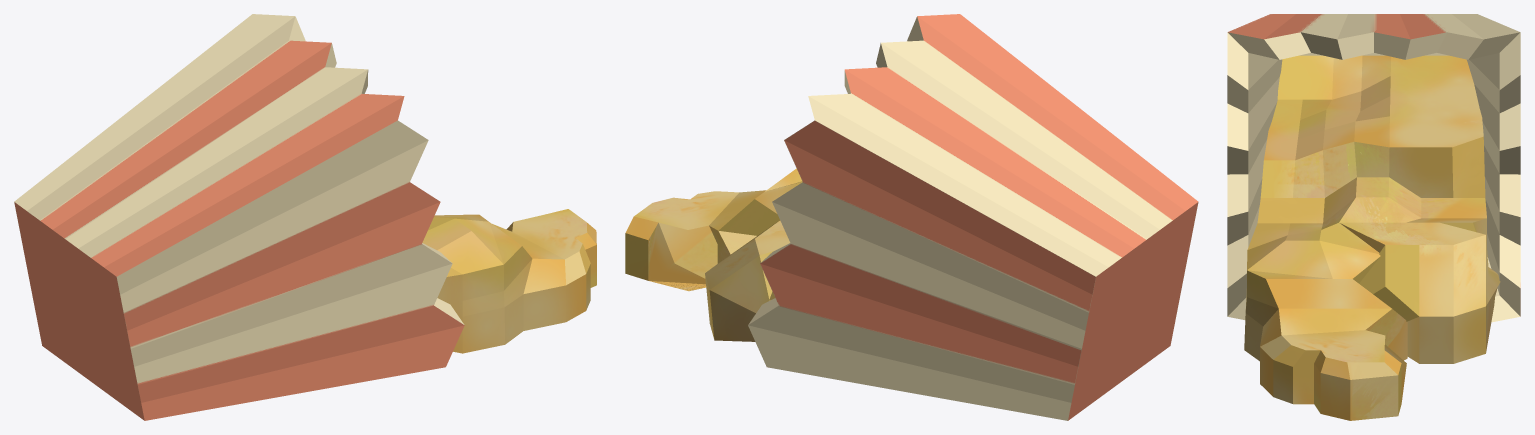
Rendered from popcorn_bucket.fbx.
The picture shows the model from 3 angles, left to right: view 1: azimuth 30°, elevation 25°; view 2: azimuth 150°, elevation 25°; view 3: azimuth 270°, elevation 25°; orthographic projection.
Visible parts, largest first — view 1: bucket, popcorn; view 2: bucket, popcorn; view 3: popcorn, bucket.
Part boxes in pixels (x1,y1,x2,y2): bucket: (14, 14, 464, 420); popcorn: (422, 209, 596, 353); bucket: (748, 14, 1198, 420); popcorn: (625, 168, 802, 341); popcorn: (1244, 55, 1500, 420); bucket: (1227, 14, 1520, 322).
Size of the model in its own units: 413 by 202 by 200.
2 materials, 2 textured.
